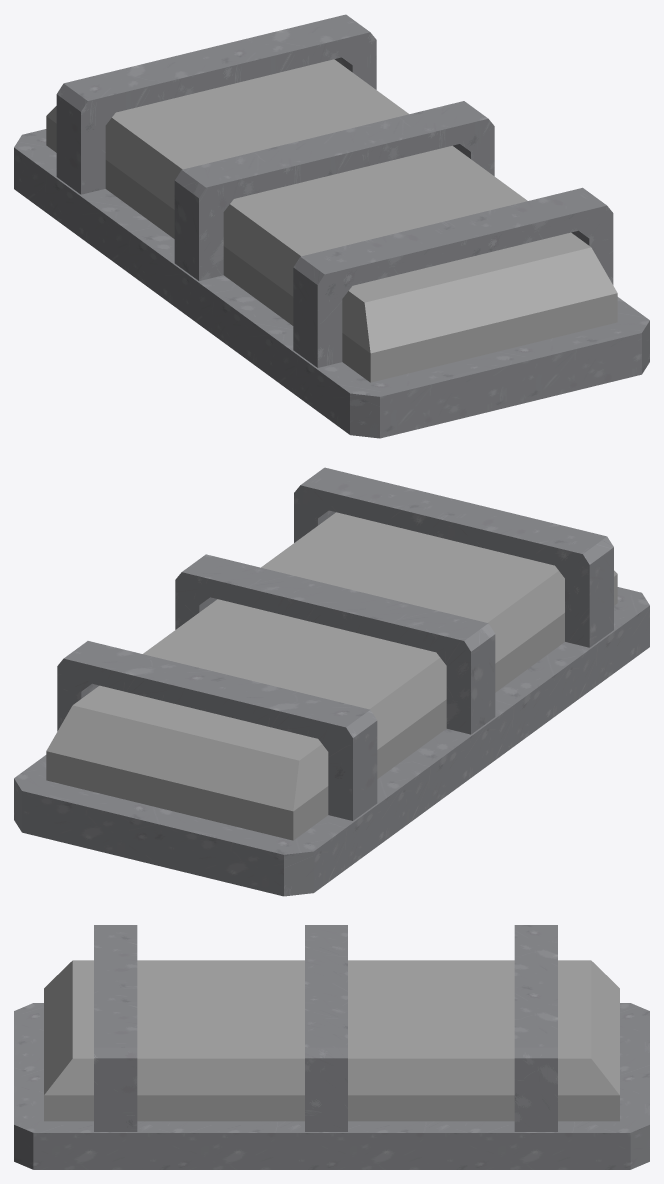
The model's file is waningLight.fbx.
The picture shows the model from 3 angles, top to bottom: view 1: azimuth 30°, elevation 25°; view 2: azimuth 150°, elevation 25°; view 3: azimuth 270°, elevation 25°; orthographic projection. The views are drawn at different scales.
Visible parts, largest first — view 1: Warning_light; view 2: Warning_light; view 3: Warning_light.
Boxes of the visible parts, x1,y1,x2,y2 form: Warning_light: (14, 14, 649, 438); Warning_light: (14, 467, 649, 896); Warning_light: (14, 925, 649, 1169).
Size of the model in its own units: 1.42 by 0.6041 by 2.94.
2 materials, 1 textured.
